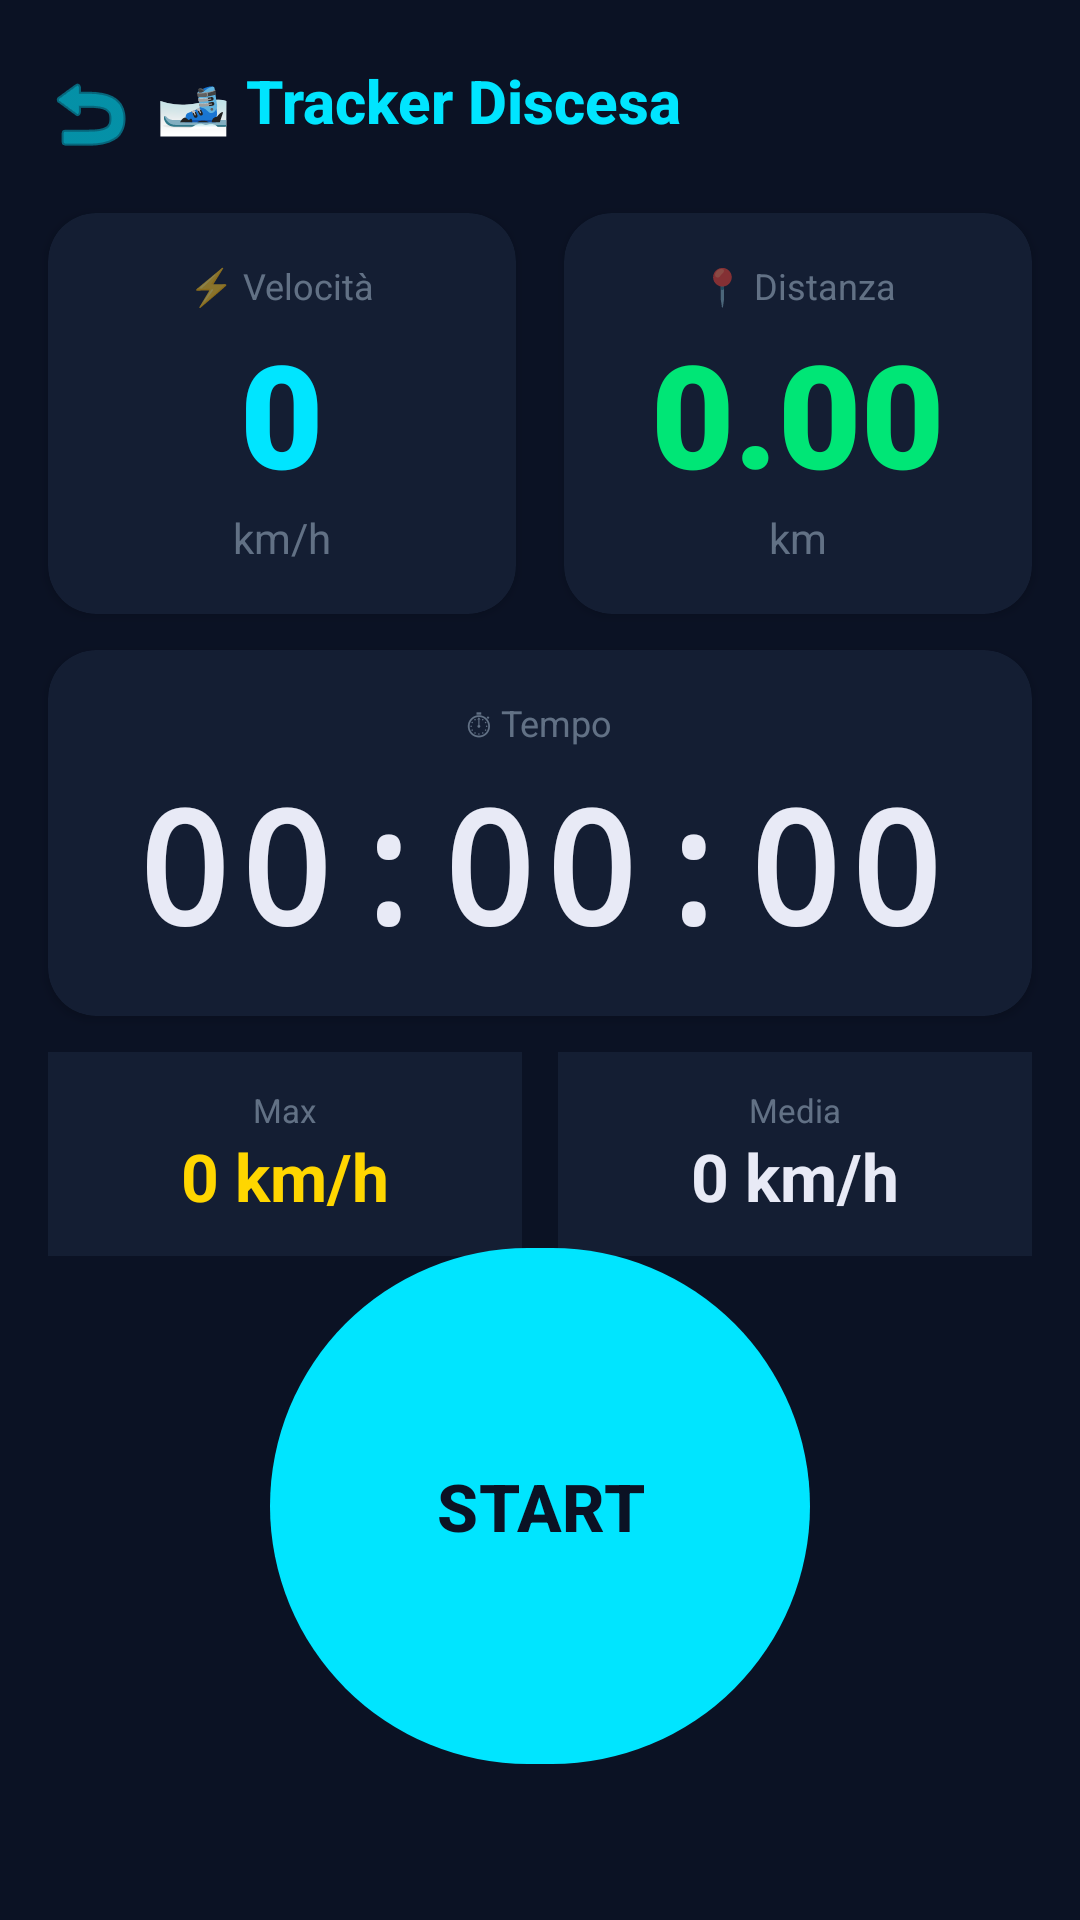

Where icons sit on this 1080px x 1920px app screen, as (x1, y1, x2, y2):
Indietro: (57, 83, 126, 146)
